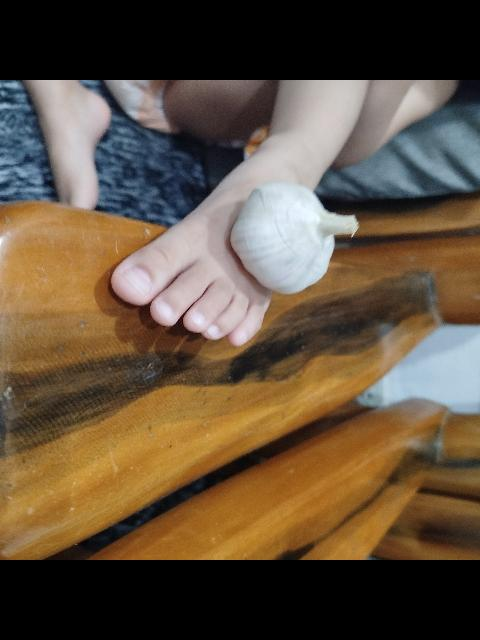garlic: (229, 181, 359, 295)
